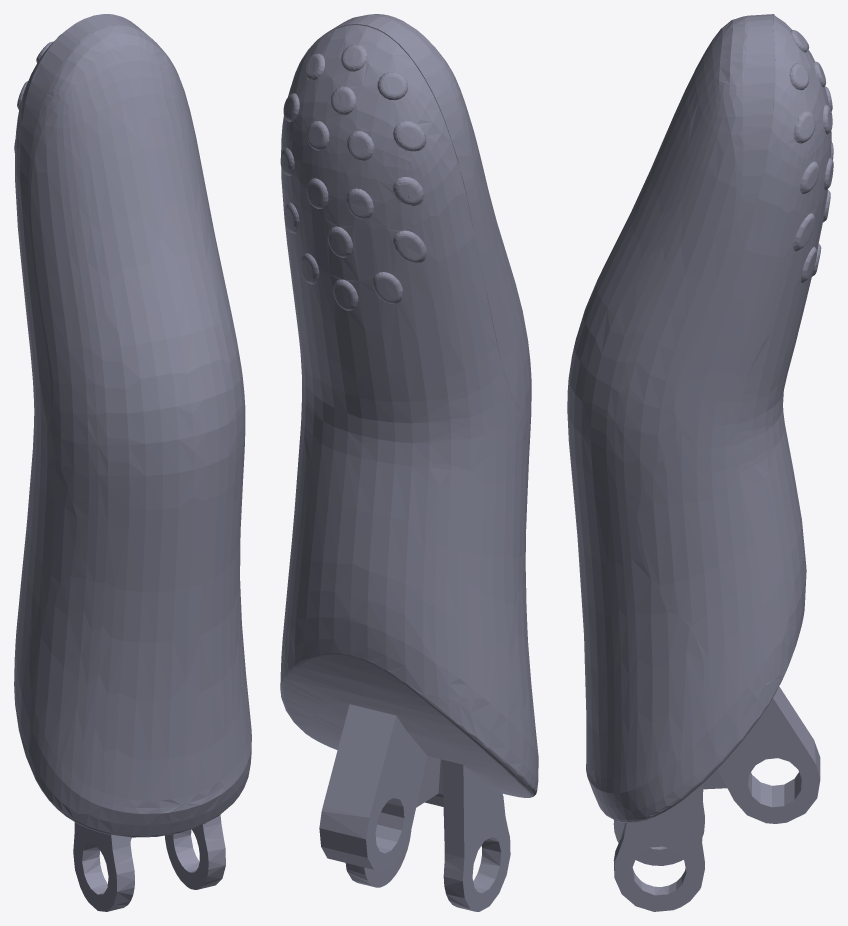
File: hand2_link_2_2_visuals.obj
The picture shows the model from 3 angles, left to right: view 1: azimuth 30°, elevation 25°; view 2: azimuth 150°, elevation 25°; view 3: azimuth 270°, elevation 25°; orthographic projection. The views are drawn at different scales.
Bounding box in the file's own units: 0.0136 × 0.0524 × 0.0146.
